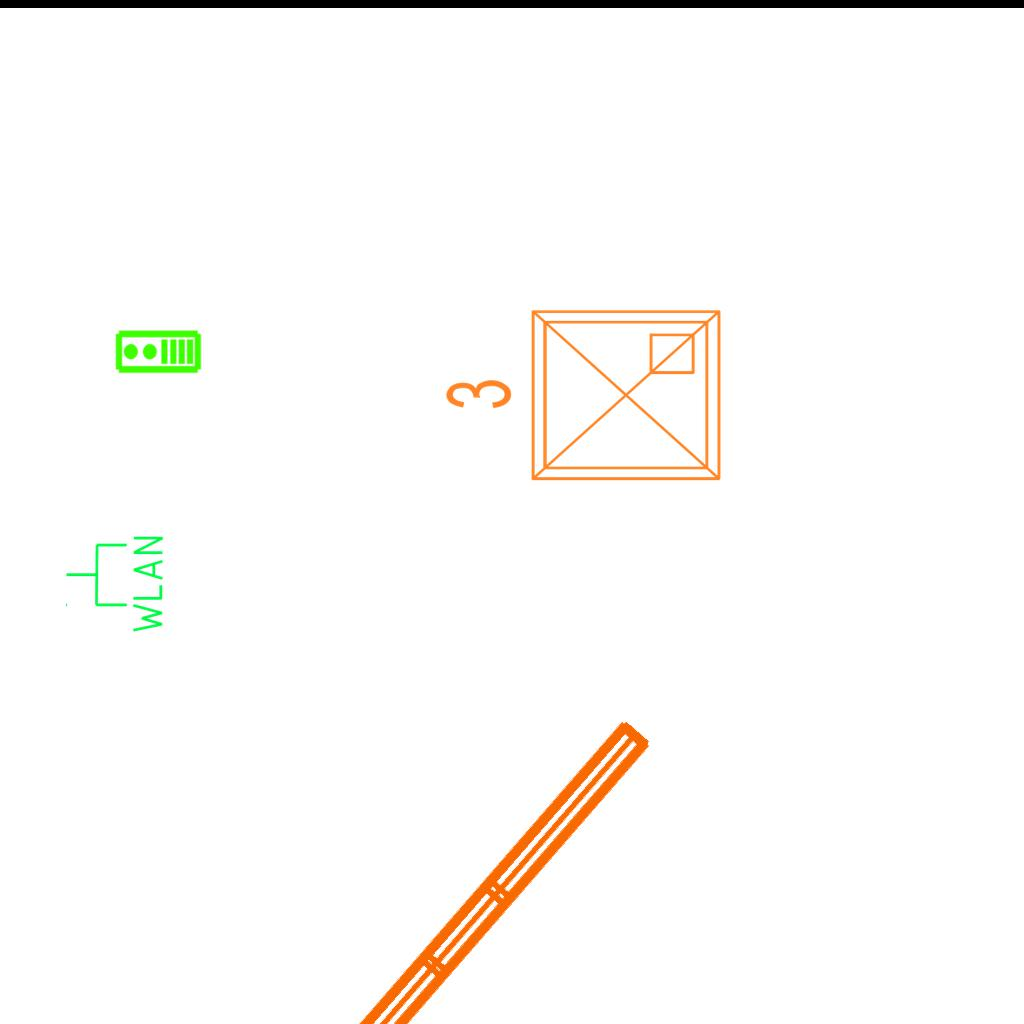Ambulanz_Pendelleuchte_LED: (113, 703, 707, 1024)
Einbaudownlights_LED_Konferenzraeume: (435, 295, 735, 503)
Gegensprechanlage_mit_Video: (114, 329, 202, 376)
WLAN: (63, 532, 167, 637)
